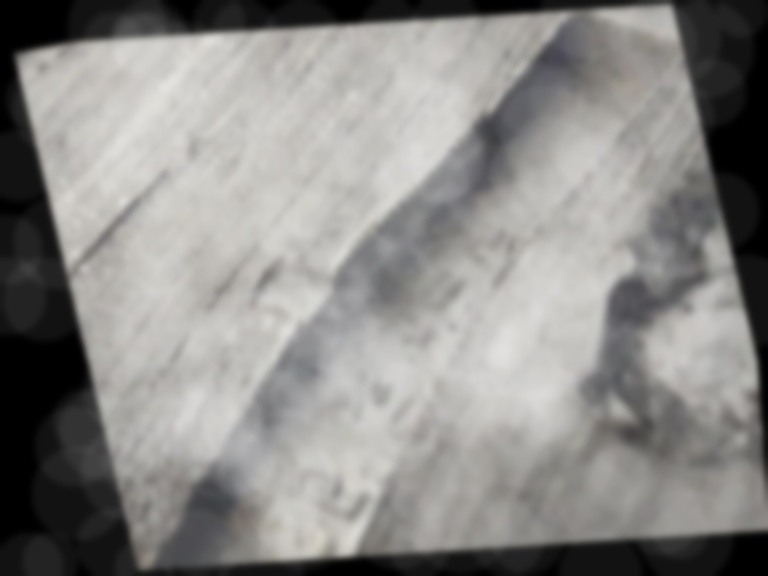temoin:0: (223, 212, 387, 369)
